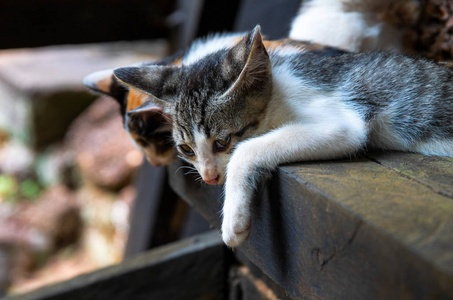cat: (113, 23, 453, 249), (82, 30, 357, 168)
